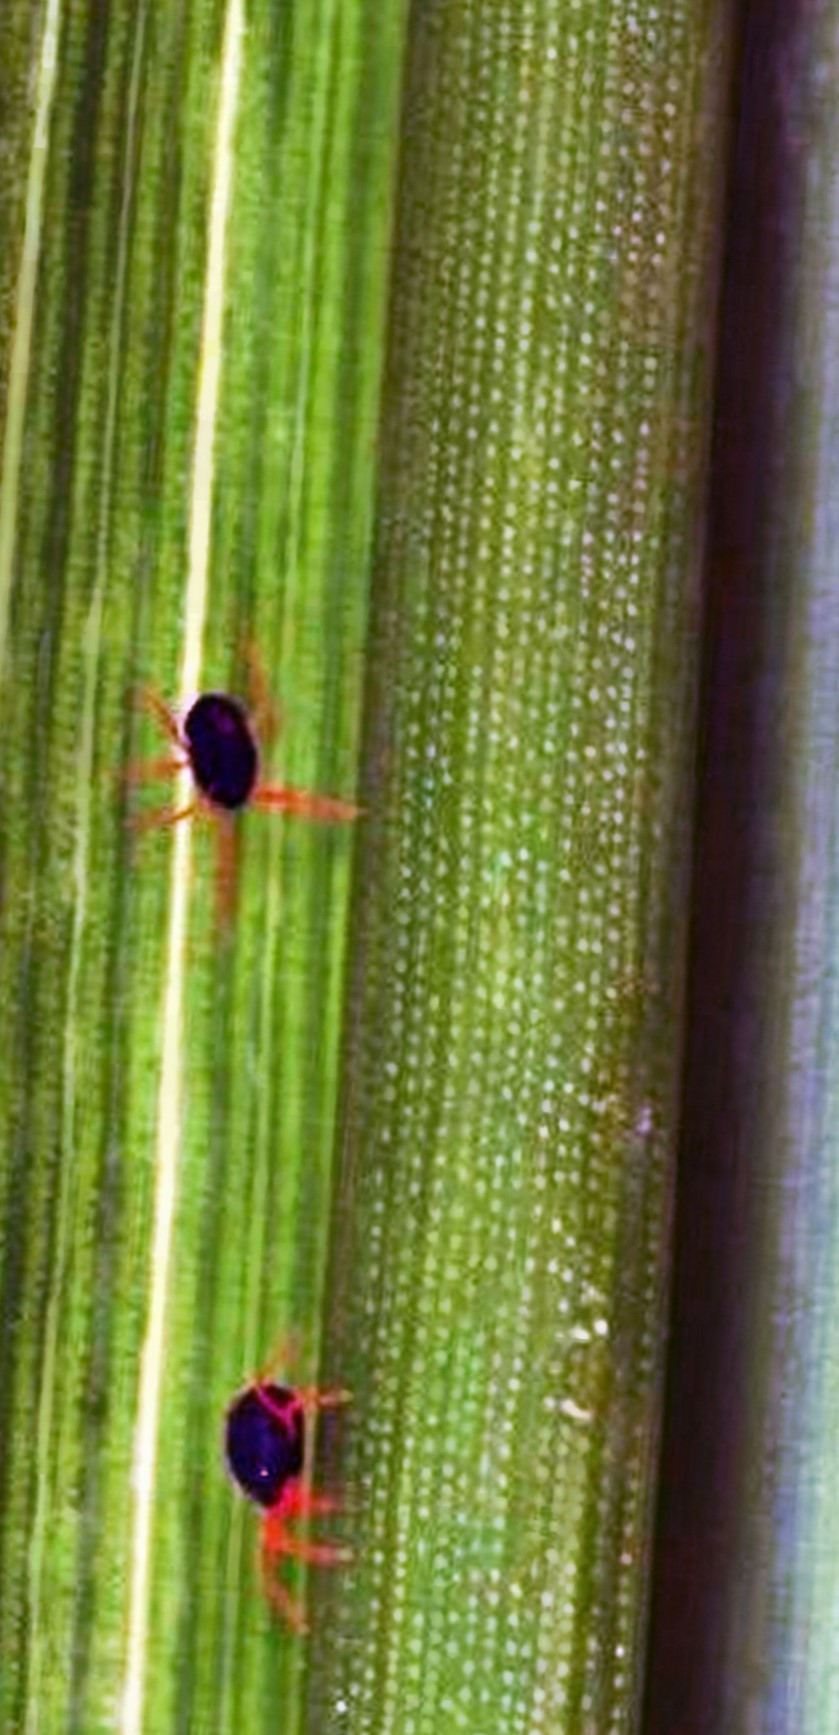Wheat Red Spider: (170, 1315, 387, 1642)
